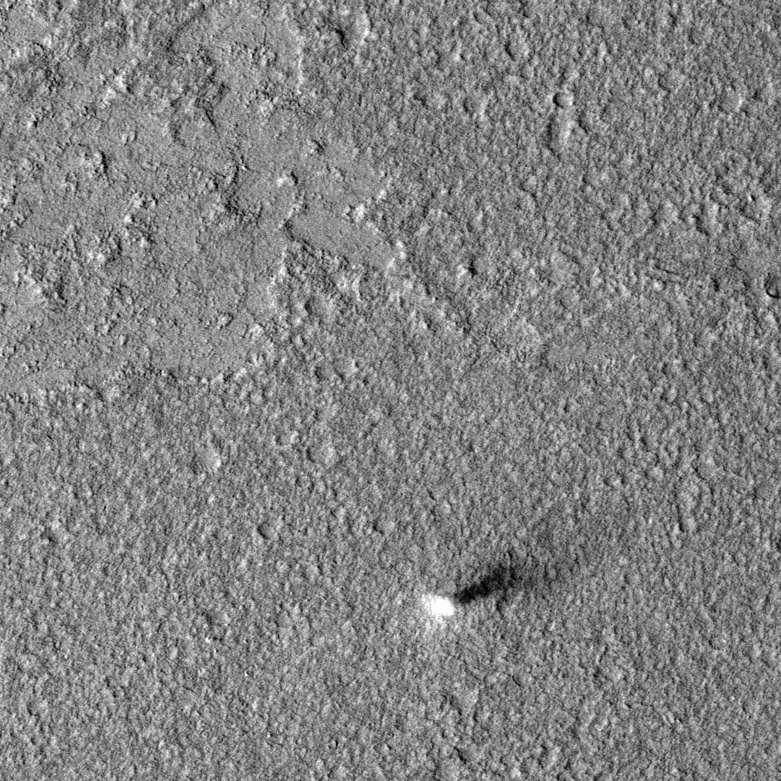dust_devil: (420, 553, 549, 621)
